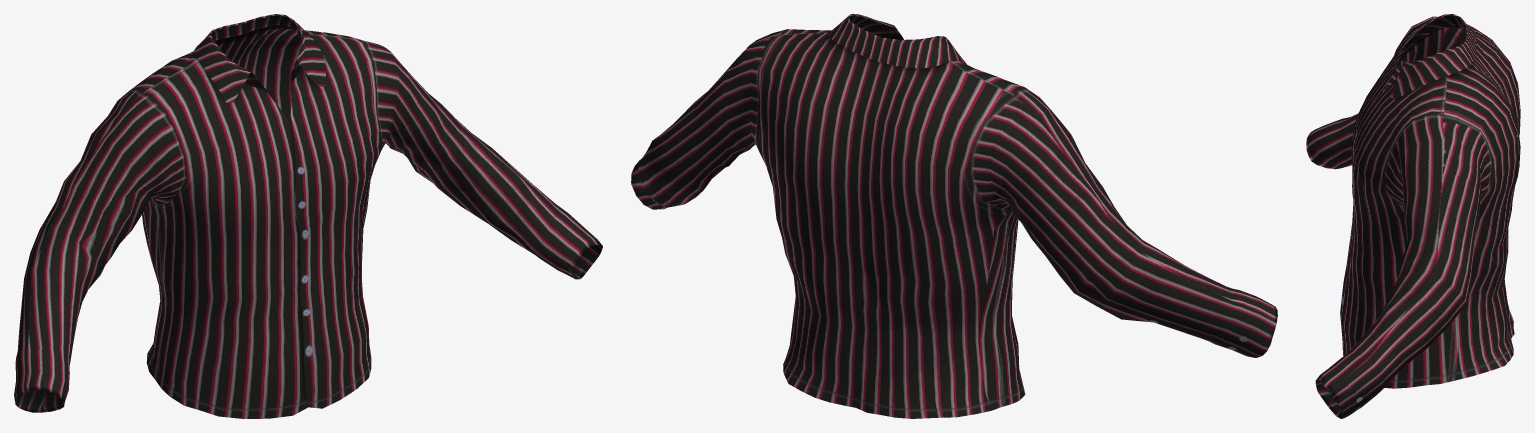
The model's file is LL_XLM.dae.
3 views of the same model, side by side, from view 1: azimuth 30°, elevation 25°; view 2: azimuth 150°, elevation 25°; view 3: azimuth 270°, elevation 25° (orthographic). The views are drawn at different scales.
Parts seen in each view (by area): view 1: testxlm-shirt01.001; view 2: testxlm-shirt01.001; view 3: testxlm-shirt01.001.
Part boxes in pixels (left/top/right/bottom): testxlm-shirt01.001: left=14, top=14, right=602, bottom=418; testxlm-shirt01.001: left=631, top=14, right=1277, bottom=418; testxlm-shirt01.001: left=1306, top=14, right=1520, bottom=418.
Size of the model in its own units: 10.7 by 6.07 by 3.59.
